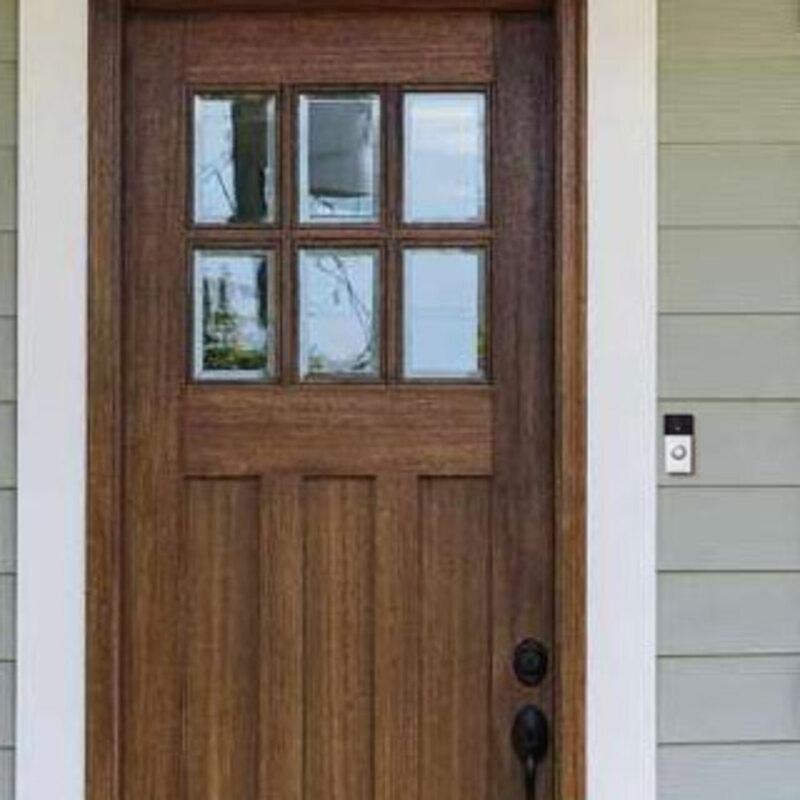doorbell: (656, 407, 704, 485)
